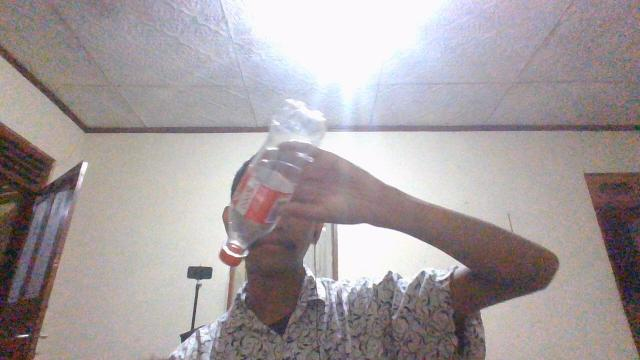coca-cola: (217, 98, 327, 268)
